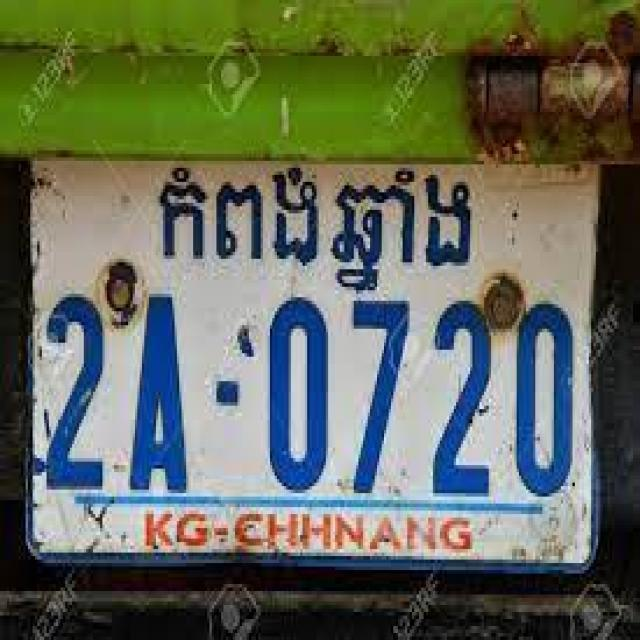Kampong_Chhnang: (154, 161, 473, 286)
